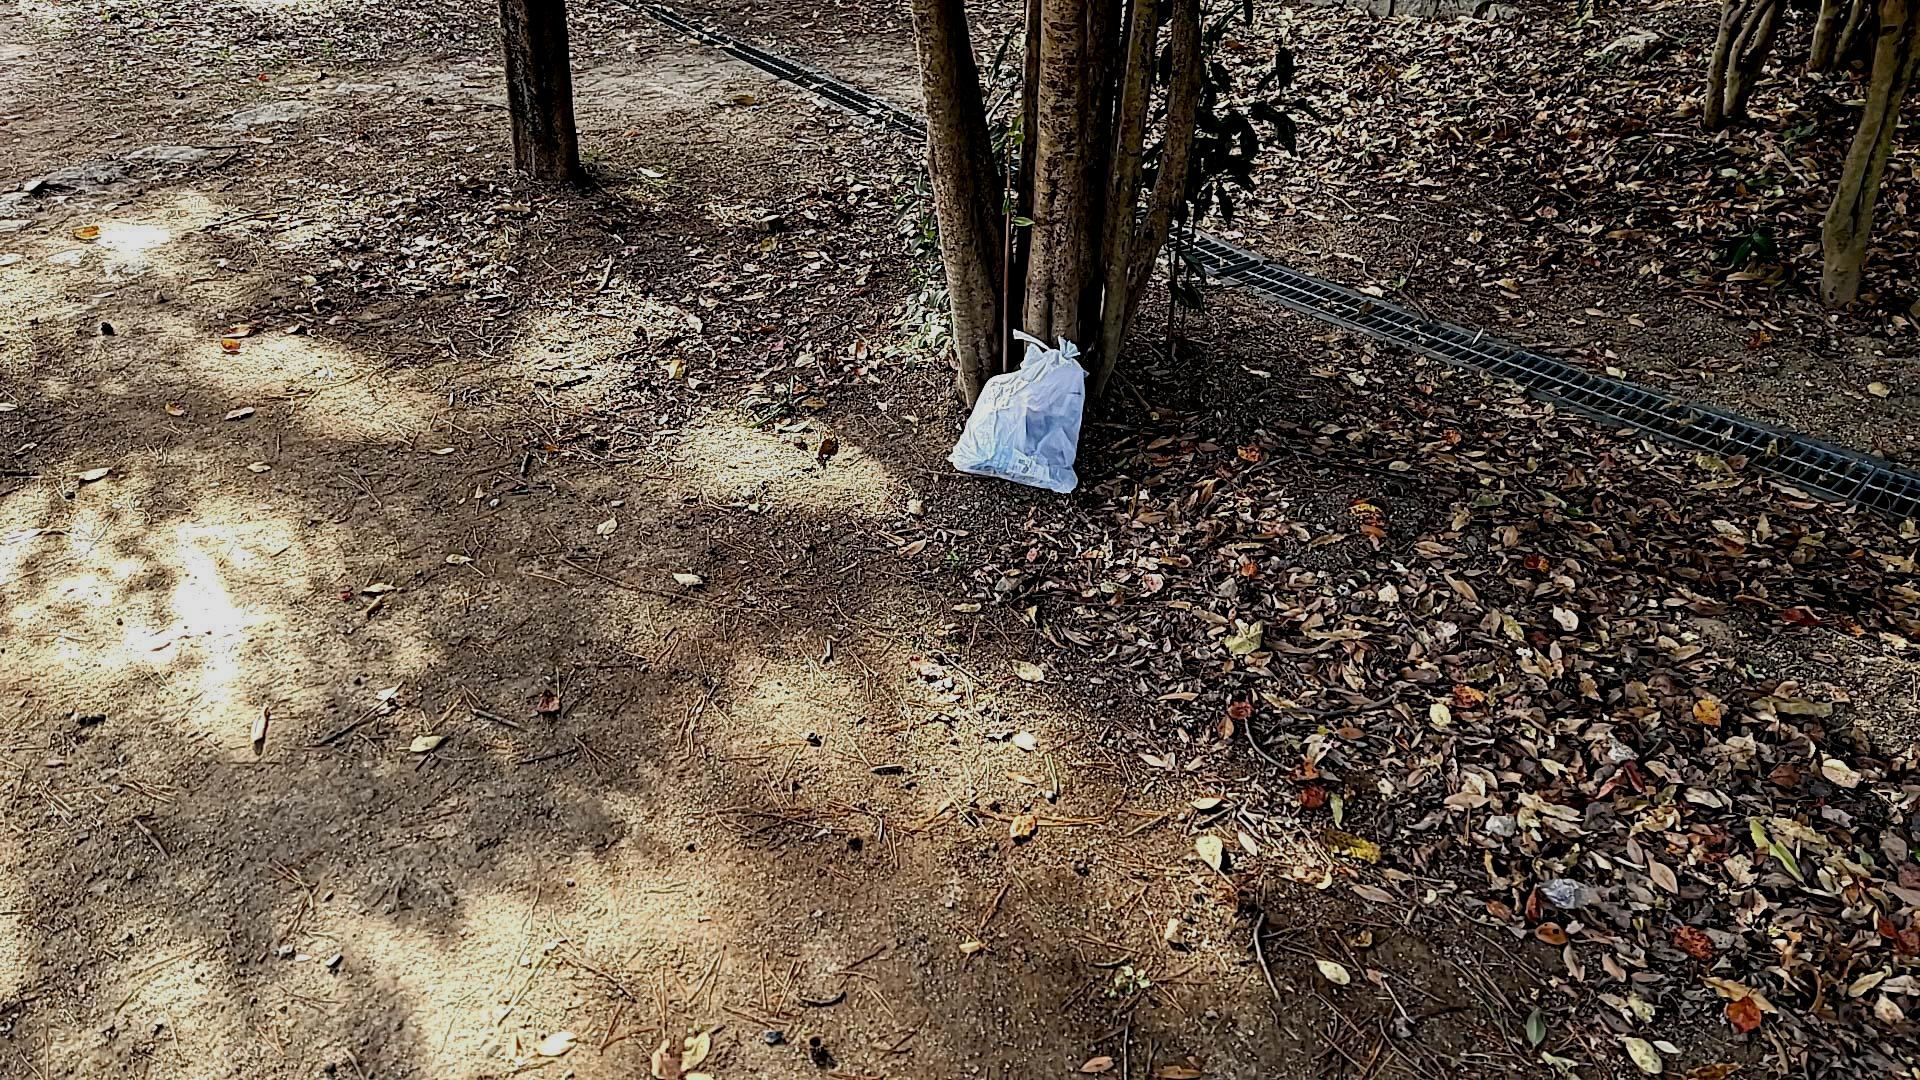white_bag: (936, 320, 1095, 502)
